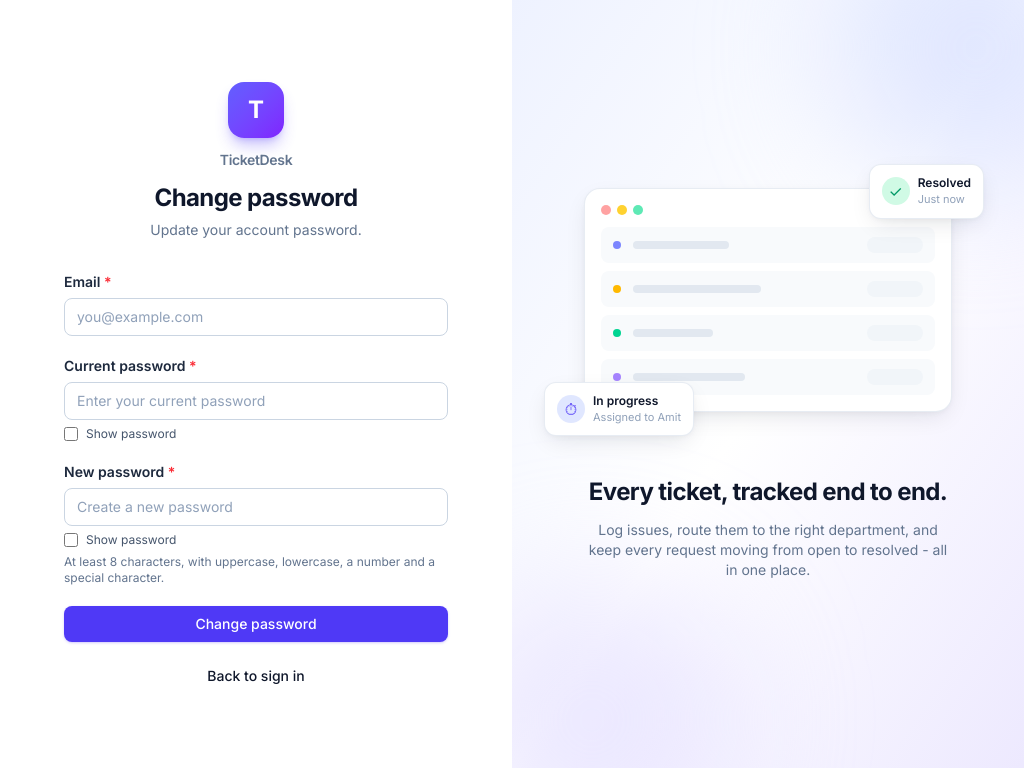
Scenario: ChangePasswordPage › shows validation errors for an empty submission
Click the button "Change password". click: x=256, y=624
box: [64,606,448,642]
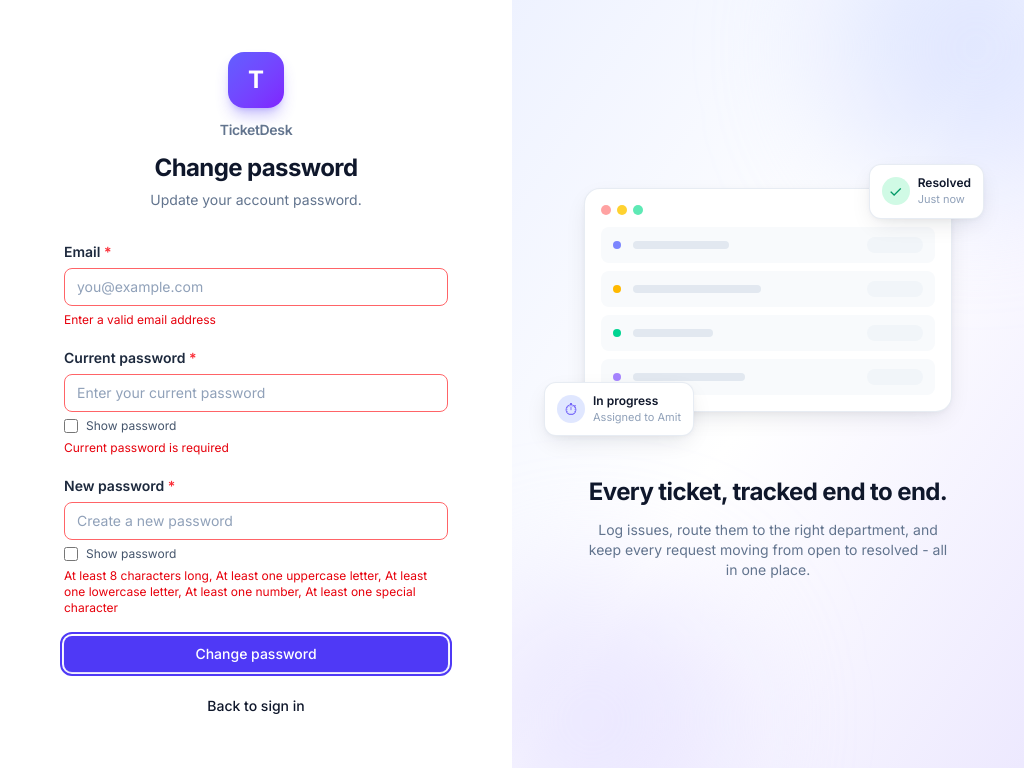
Expected: the text "Enter a valid email address" is shown, [64,312,216,327]
Expected: the text "Current password is required" is shown, [64,440,229,455]
Expected: the text "At least 8 characters long" is shown, [64,568,427,615]
